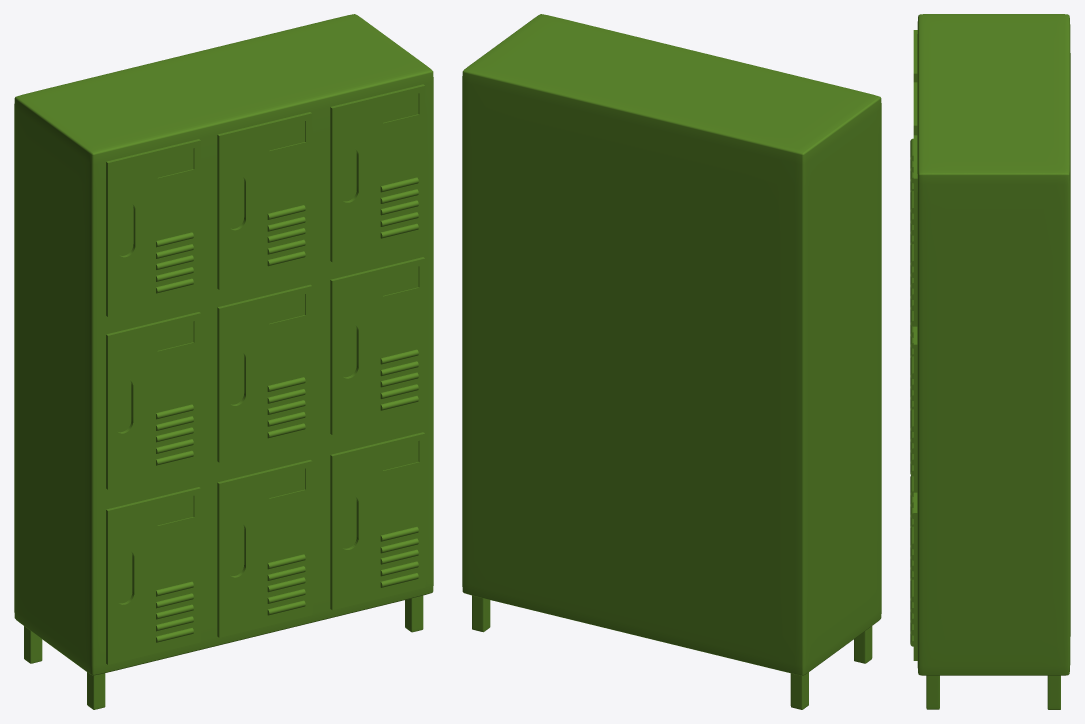
Rendered from Locker.glb.
3 views of the same model, side by side, from view 1: azimuth 30°, elevation 25°; view 2: azimuth 150°, elevation 25°; view 3: azimuth 270°, elevation 25° (orthographic). The views are drawn at different scales.
Parts seen in each view (by area): view 1: Lock1, Lock50, Lock54, Lock51, Lock55, Lock52, Lock49, Lock47, Lock48, Lock53, Lock57; view 2: Lock1, Lock_2; view 3: Lock1, Lock54, Lock50, Lock51, Lock56, Lock_1.
Part boxes in pixels (x1,y1,x2,y2): Lock1: [14, 14, 433, 675]; Lock50: [330, 432, 425, 610]; Lock54: [330, 84, 425, 262]; Lock51: [330, 257, 425, 434]; Lock55: [217, 112, 312, 289]; Lock52: [217, 284, 312, 462]; Lock49: [217, 460, 312, 637]; Lock47: [106, 139, 200, 316]; Lock48: [106, 487, 200, 664]; Lock53: [106, 312, 200, 489]; Lock57: [87, 672, 105, 709]; Lock1: [462, 14, 881, 675]; Lock_2: [790, 672, 808, 709]; Lock1: [917, 14, 1070, 675]; Lock54: [913, 135, 917, 326]; Lock50: [913, 492, 917, 660]; Lock51: [913, 326, 917, 492]; Lock56: [926, 675, 939, 709]; Lock_1: [1047, 675, 1060, 709].
Bounding box in the file's own units: 6.72 × 10.52 × 2.83.
